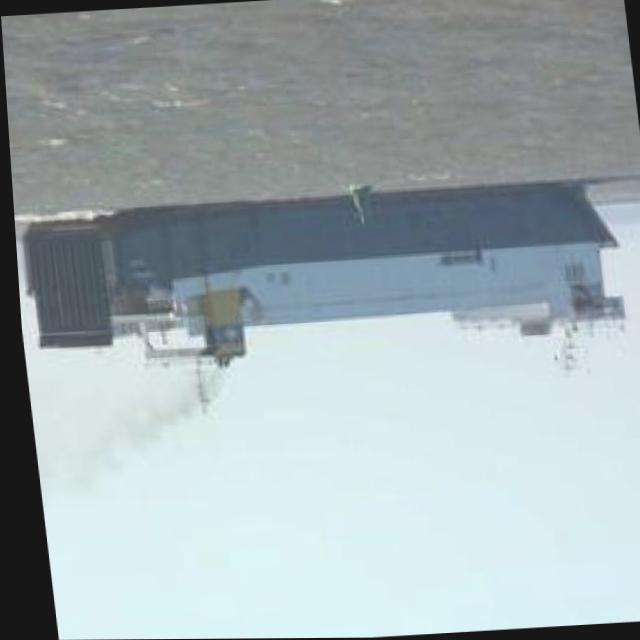ship2: (18, 180, 622, 415)
